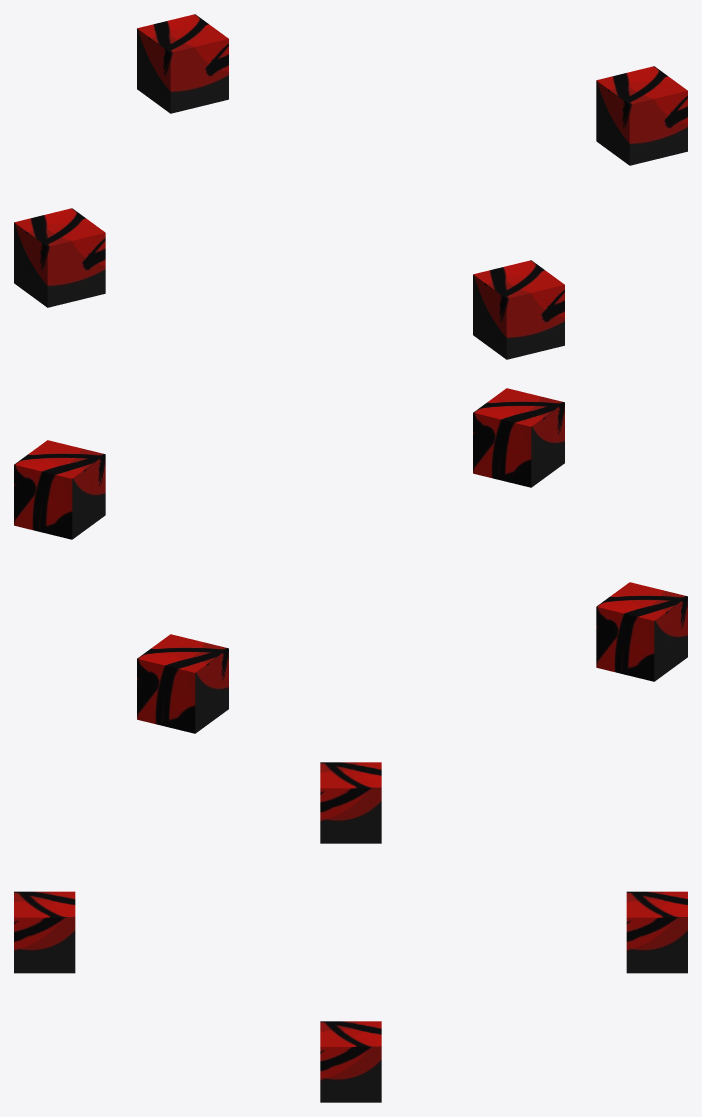
Rendered from cubes.obj.
The picture shows the model from 3 angles, top to bottom: view 1: azimuth 30°, elevation 25°; view 2: azimuth 150°, elevation 25°; view 3: azimuth 270°, elevation 25°; orthographic projection. The views are drawn at different scales.
Parts seen in each view (by area): view 1: pCube1, pCube3, pCube2, pCube4; view 2: pCube1, pCube3, pCube2, pCube4; view 3: pCube2, pCube4, pCube1, pCube3.
Boxes of the visible parts, <box> form: pCube1: <box>14,208,105,307</box>; pCube3: <box>596,66,687,165</box>; pCube2: <box>473,260,564,359</box>; pCube4: <box>137,14,228,113</box>; pCube1: <box>596,582,687,681</box>; pCube3: <box>14,440,105,539</box>; pCube2: <box>473,388,564,487</box>; pCube4: <box>137,634,228,733</box>; pCube2: <box>14,891,75,973</box>; pCube4: <box>626,891,687,973</box>; pCube1: <box>320,762,381,843</box>; pCube3: <box>320,1021,381,1102</box>.
Size of the model in its own units: 11 by 1 by 11.
Materials: 1 (1 with a texture image).
